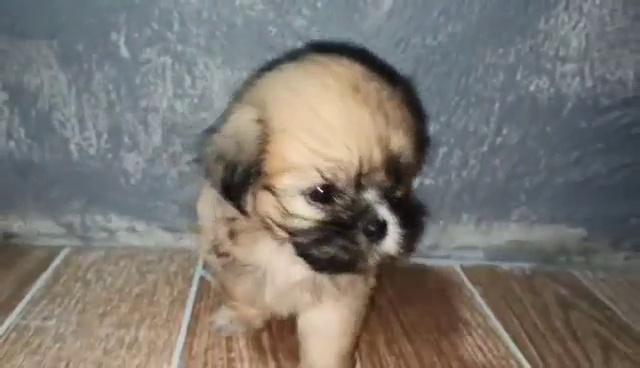dog: (196, 58, 431, 368)
